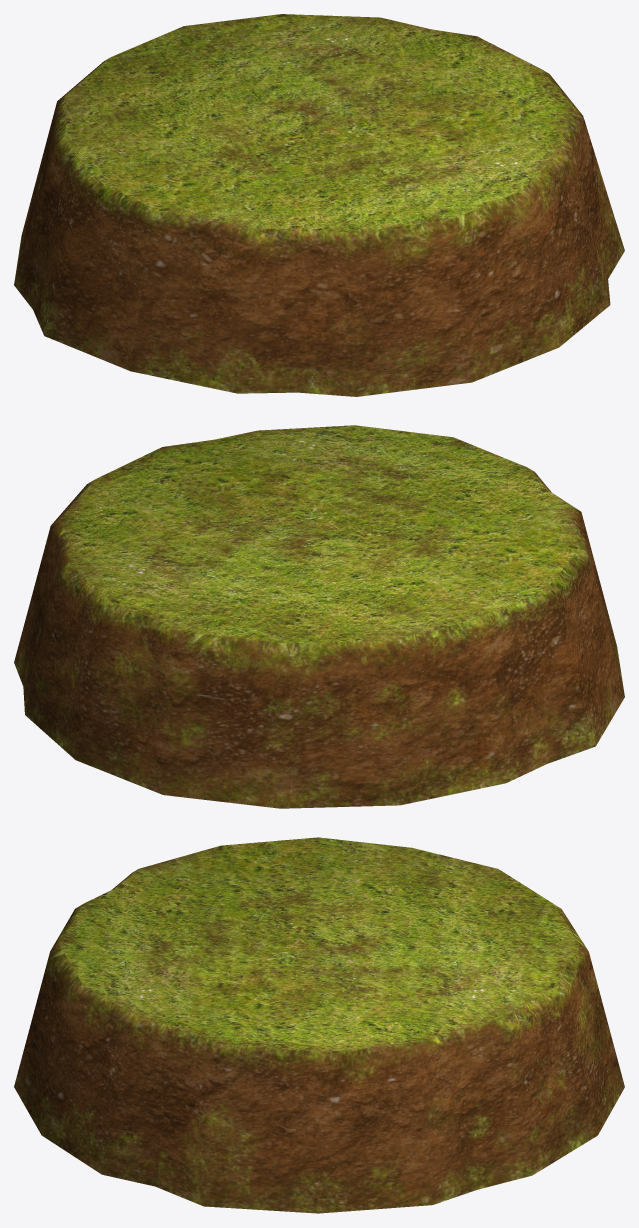
Rendered from ENV2910008.fbx.
The picture shows the model from 3 angles, top to bottom: view 1: azimuth 30°, elevation 25°; view 2: azimuth 150°, elevation 25°; view 3: azimuth 270°, elevation 25°; orthographic projection. The views are drawn at different scales.
Visible parts, largest first — view 1: smENV2910008; view 2: smENV2910008; view 3: smENV2910008.
Part boxes in pixels (x1=…): smENV2910008: x1=14, y1=14, x2=624, y2=396; smENV2910008: x1=14, y1=425, x2=624, y2=808; smENV2910008: x1=14, y1=837, x2=624, y2=1213.
Size of what is drawn, in the model's own units: 991 by 256 by 995.
1 material, 1 textured.
